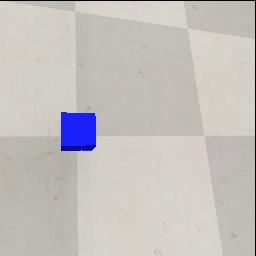box: (61, 112, 96, 151)
